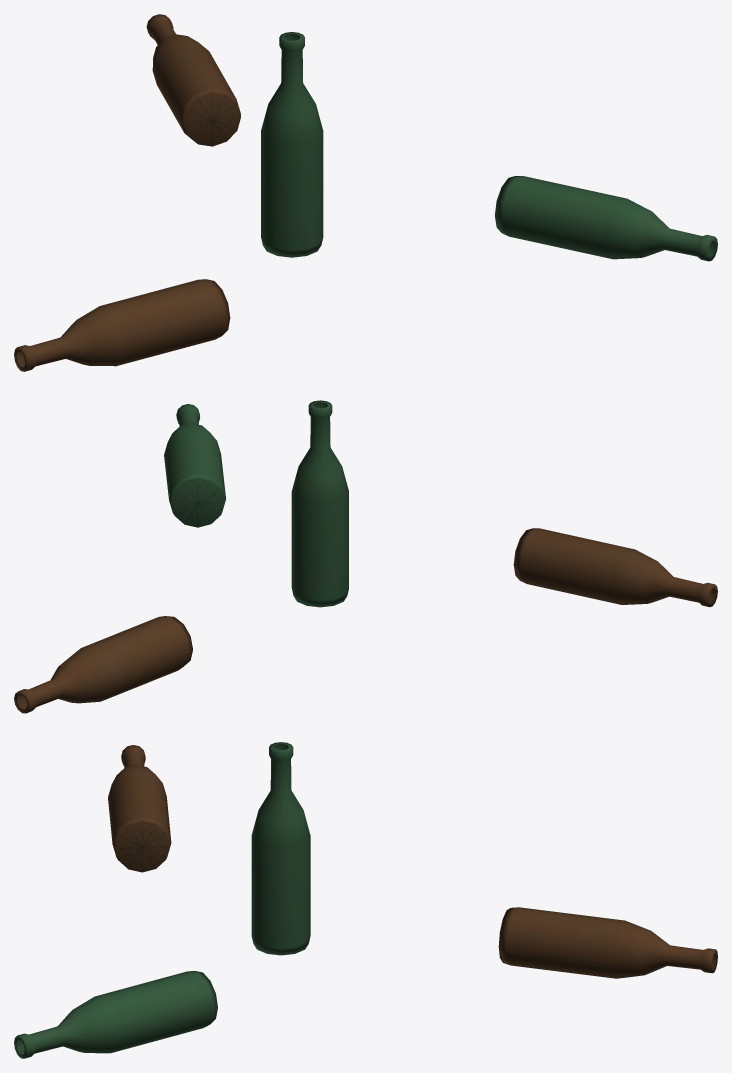
File: bottles.glb
The picture shows the model from 3 angles, top to bottom: view 1: azimuth 30°, elevation 25°; view 2: azimuth 150°, elevation 25°; view 3: azimuth 270°, elevation 25°; orthographic projection. The views are drawn at different scales.
Parts seen in each view (by area): view 1: bottles; view 2: bottles; view 3: bottles.
Boxes of the visible parts, <box> form: bottles: <box>14,14,717,371</box>; bottles: <box>14,400,717,713</box>; bottles: <box>14,742,717,1058</box>.
Size of the model in its own units: 0.8072 by 0.25 by 0.8116.
1 material, 1 textured.
